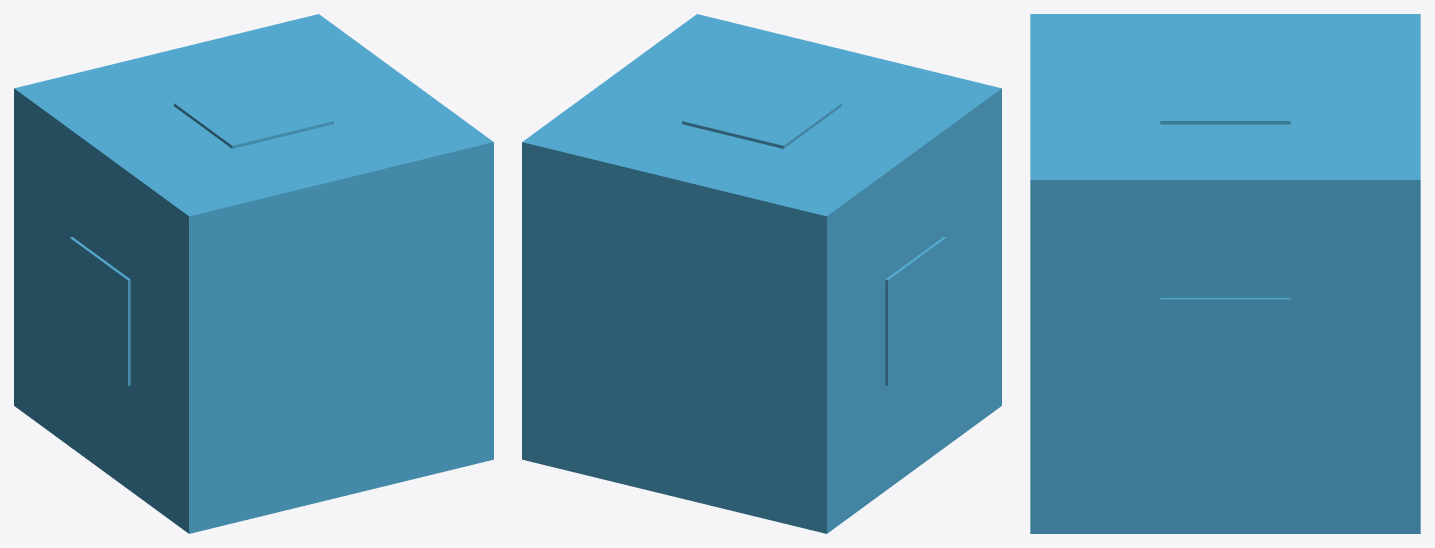
The model's file is MainCube.fbx.
3 renders of one model, left to right at view 1: azimuth 30°, elevation 25°; view 2: azimuth 150°, elevation 25°; view 3: azimuth 270°, elevation 25°, orthographic. The views are drawn at different scales.
Parts seen in each view (by area): view 1: Main_Cube; view 2: Main_Cube; view 3: Main_Cube.
Part boxes in pixels (bbox=[...]): Main_Cube: bbox=[14, 14, 493, 533]; Main_Cube: bbox=[522, 14, 1001, 533]; Main_Cube: bbox=[1030, 14, 1420, 533].
Bounding box in the file's own units: 422 × 420 × 412.
